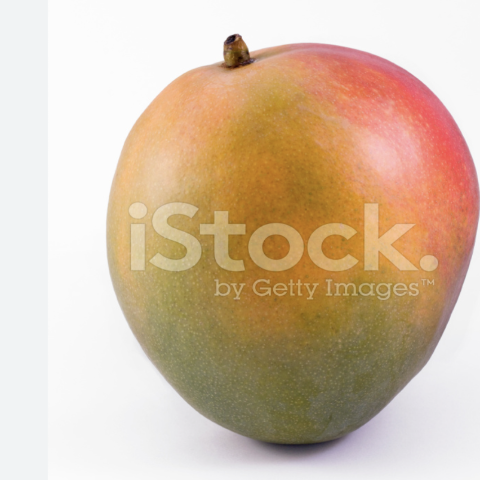mango: (80, 15, 478, 479)
